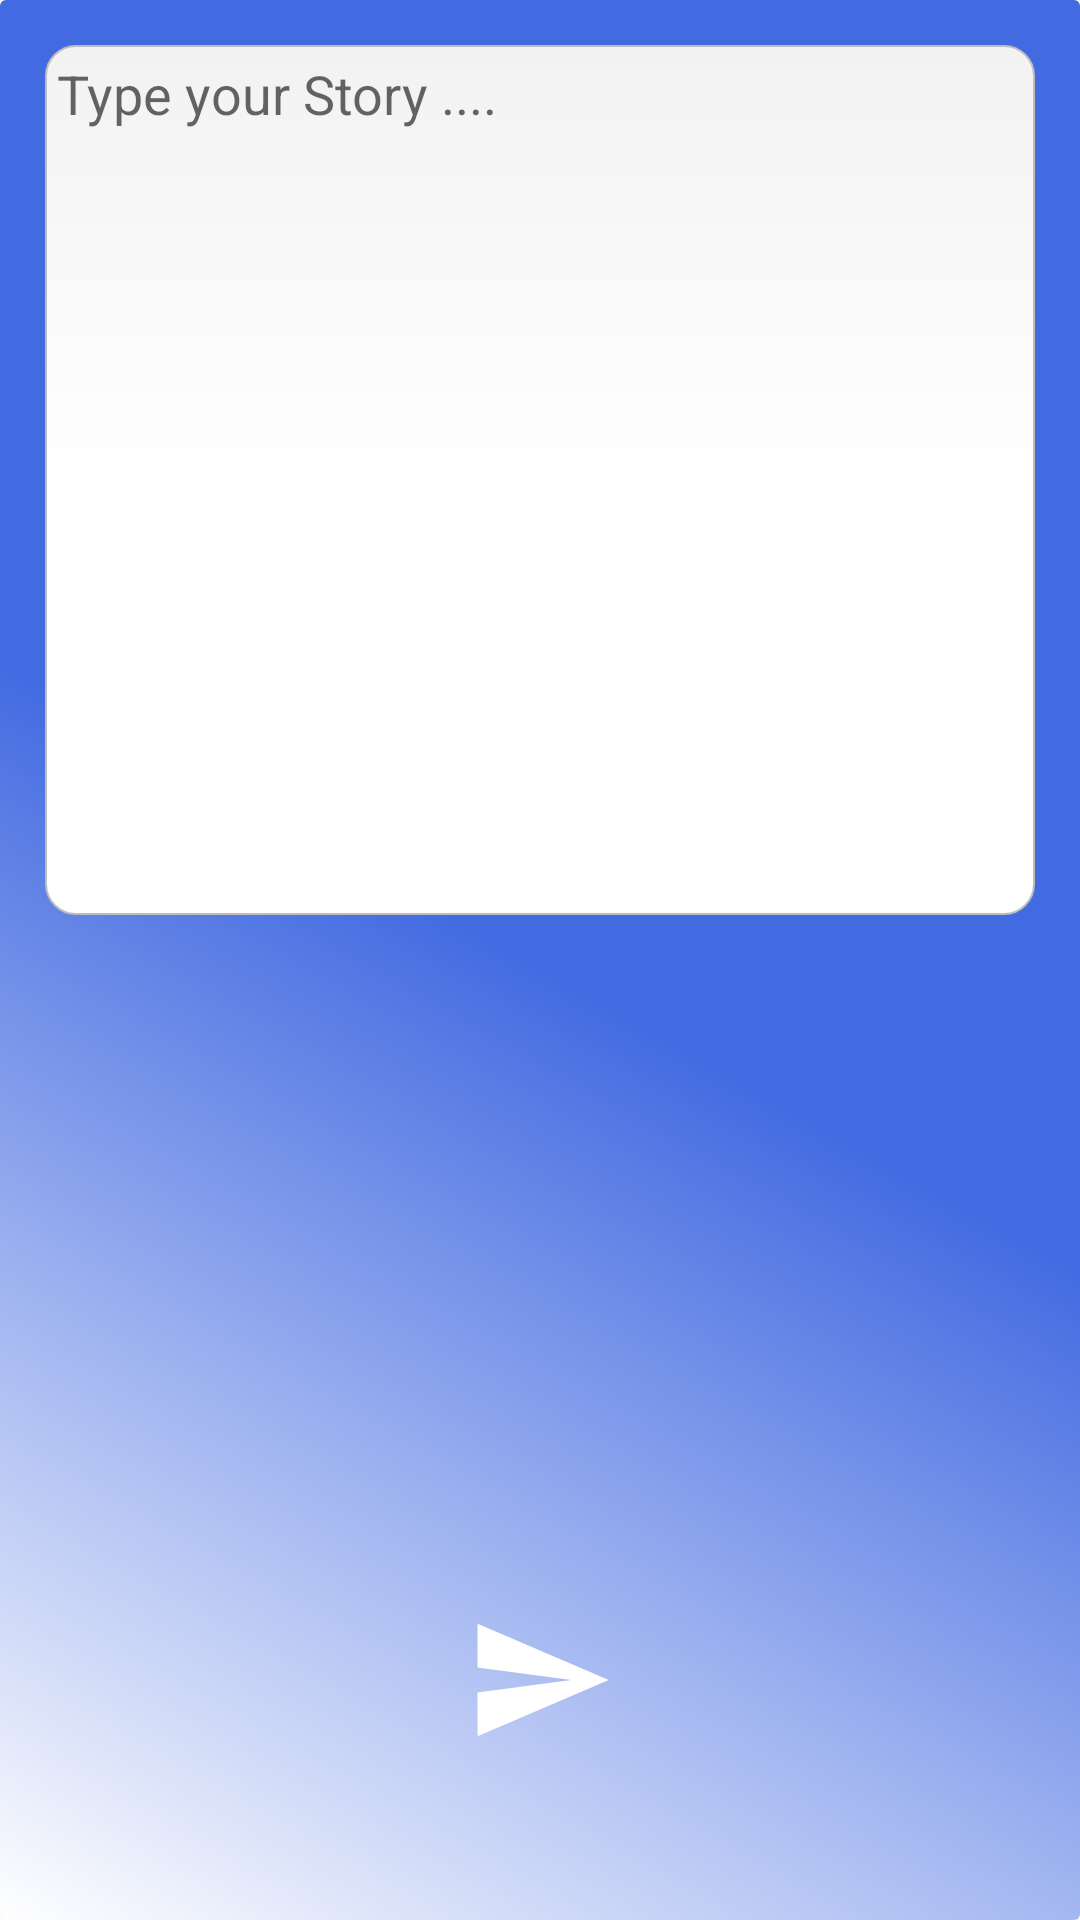

Locate icon controls on the screen. Image size 1080px×1920px, boxes as (x1, y1, x2, y2).
send: (477, 1624, 608, 1736)
